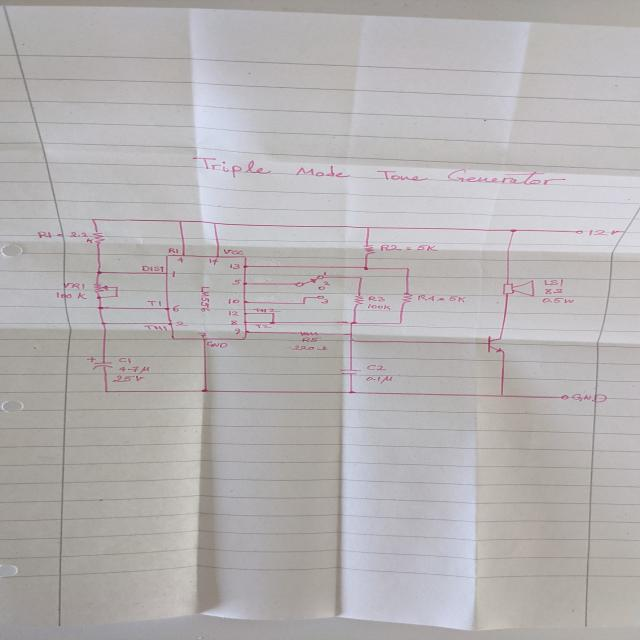capacitor: (84, 356, 114, 370), (338, 368, 363, 376)
junction: (96, 306, 109, 310), (99, 322, 111, 326), (508, 228, 518, 232), (347, 390, 357, 394), (95, 270, 103, 275), (348, 338, 358, 342), (200, 388, 209, 392), (349, 320, 358, 324), (498, 393, 505, 398), (362, 266, 370, 270), (176, 219, 184, 223), (113, 294, 120, 298), (357, 276, 365, 279), (103, 389, 109, 393), (96, 296, 104, 299), (211, 221, 217, 225), (347, 332, 353, 336), (268, 321, 276, 324), (404, 267, 411, 270), (366, 227, 372, 230), (114, 285, 120, 288), (90, 218, 96, 221), (396, 322, 404, 324), (302, 296, 307, 299), (270, 312, 276, 314), (301, 302, 306, 304)
resistor: (92, 230, 106, 245), (92, 282, 109, 294), (399, 292, 414, 304), (361, 244, 376, 255), (352, 294, 365, 306), (298, 331, 320, 336)
switch: (293, 274, 326, 290)
terminal: (573, 229, 585, 235), (558, 394, 569, 400), (314, 295, 326, 299)
text: (189, 155, 567, 187), (36, 230, 94, 244), (379, 243, 439, 251), (416, 294, 468, 303), (570, 393, 608, 403), (199, 286, 211, 312), (365, 375, 394, 385), (541, 296, 575, 304), (54, 291, 88, 299), (291, 344, 328, 351), (587, 229, 624, 236), (118, 366, 150, 374), (110, 375, 146, 382), (62, 281, 86, 290), (366, 303, 392, 311), (206, 340, 228, 348), (543, 278, 565, 286), (140, 265, 164, 272), (221, 248, 245, 255), (365, 364, 387, 371), (143, 325, 168, 331), (366, 295, 386, 302), (251, 308, 282, 312), (226, 297, 241, 305), (543, 288, 563, 294), (300, 337, 322, 342), (145, 300, 163, 306), (117, 357, 132, 364), (207, 258, 220, 266), (167, 247, 180, 254), (171, 304, 182, 312), (196, 331, 208, 338), (230, 278, 242, 285), (227, 310, 240, 316), (228, 263, 241, 269), (253, 324, 272, 328), (174, 321, 188, 326), (321, 280, 332, 286), (229, 319, 239, 325), (176, 257, 186, 263), (320, 299, 330, 304), (170, 270, 177, 277), (233, 328, 241, 334), (322, 270, 327, 276)
transistor: (486, 334, 508, 354)
